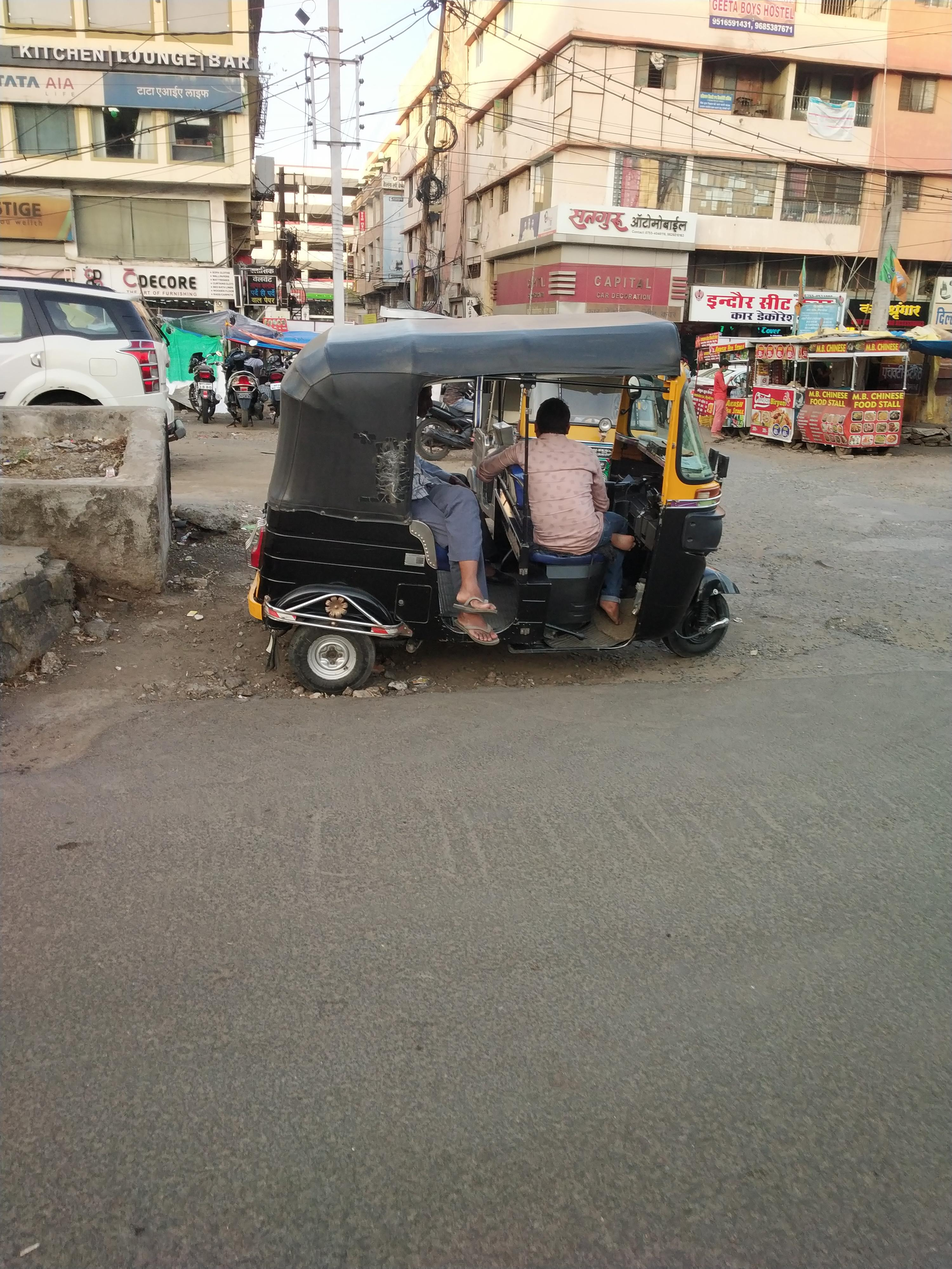non-ambulance: (261, 237, 766, 702)
